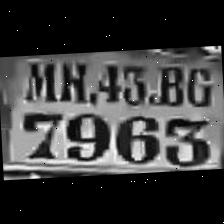3: (159, 112, 206, 166), (114, 56, 150, 107)
4: (90, 56, 120, 104)
6: (112, 108, 162, 164)
7: (14, 104, 60, 162)
9: (57, 104, 109, 160)
B: (150, 59, 185, 107)
G: (182, 59, 215, 108)
H: (55, 54, 90, 102)
M: (20, 53, 54, 99)
